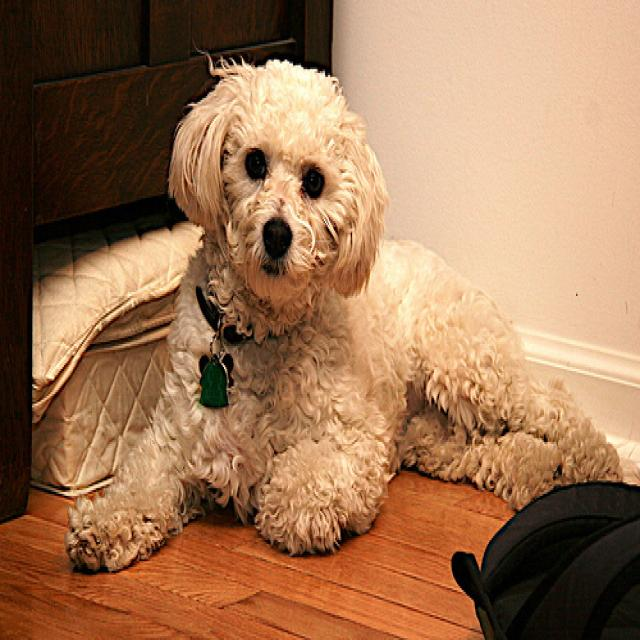dog-havanese: (55, 35, 636, 578)
